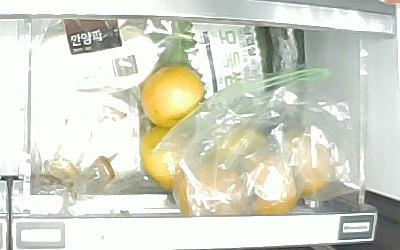persimmon: (141, 66, 205, 126)
persimmon_vinyl: (173, 163, 247, 215), (281, 128, 333, 198), (242, 155, 298, 215), (140, 128, 191, 192), (205, 126, 274, 169)
